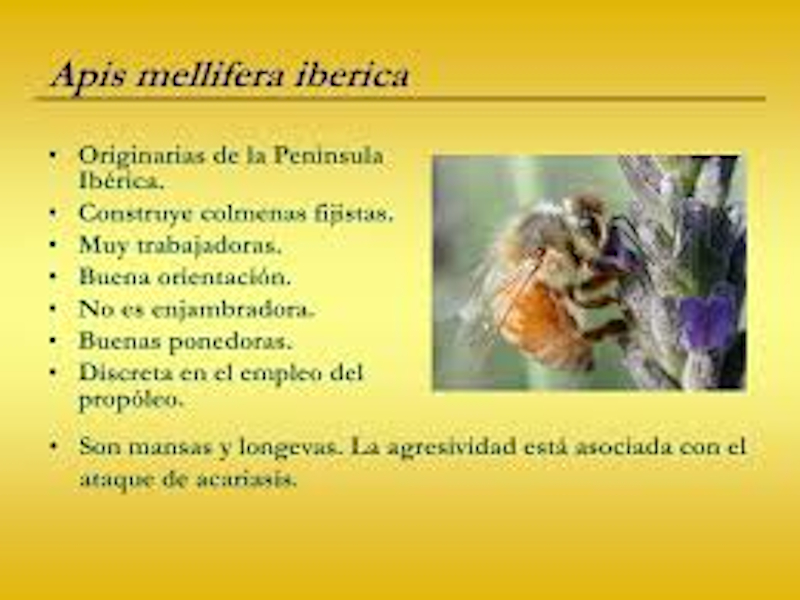abeja: (468, 156, 658, 361)
